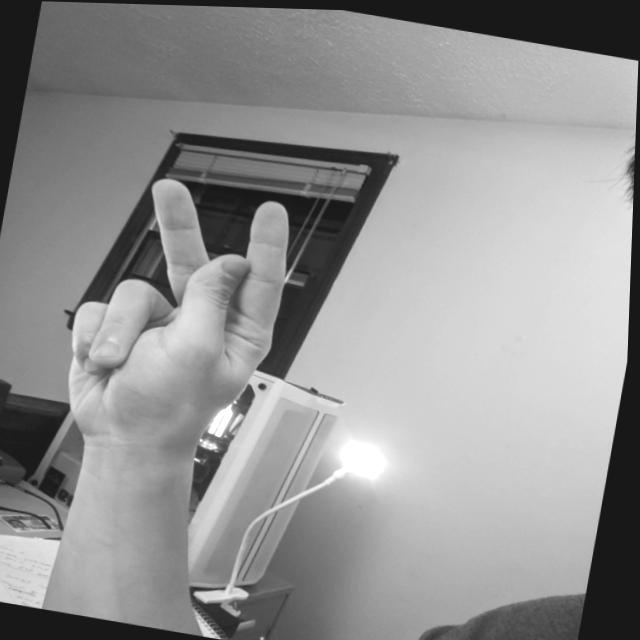K: (49, 155, 310, 472)
